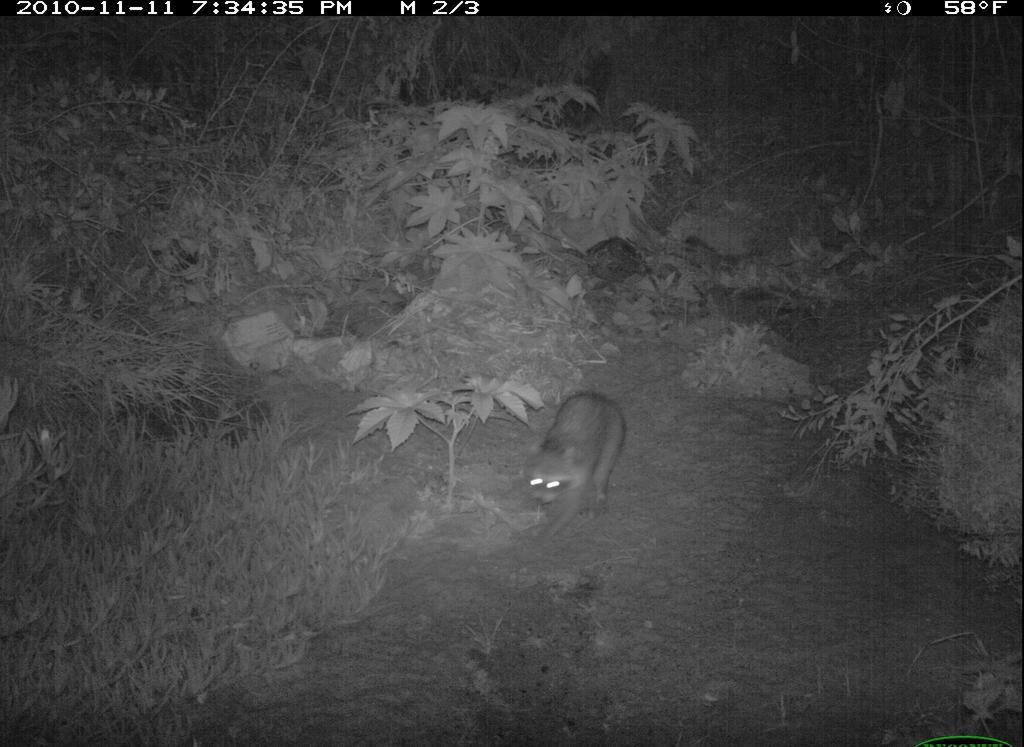raccoon: (505, 391, 630, 548)
